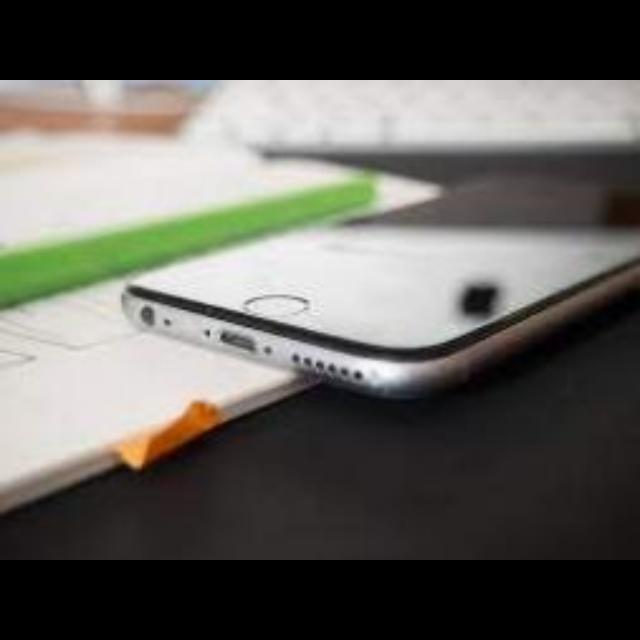Phone: (118, 174, 640, 396)
